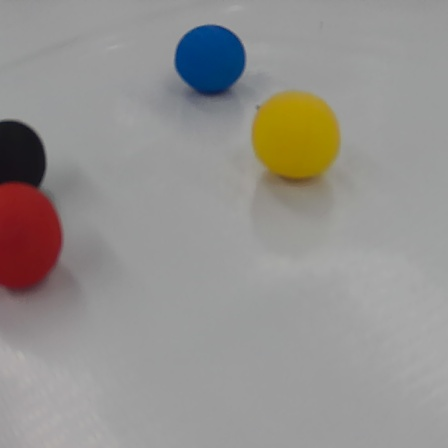black: (1, 119, 45, 190)
blue: (173, 25, 247, 95)
red: (2, 187, 61, 295)
yellow: (253, 88, 339, 180)
